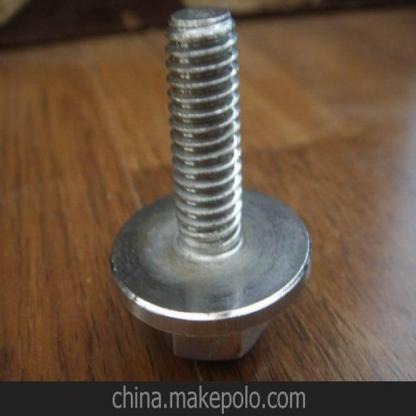FOD: (107, 0, 315, 370)
